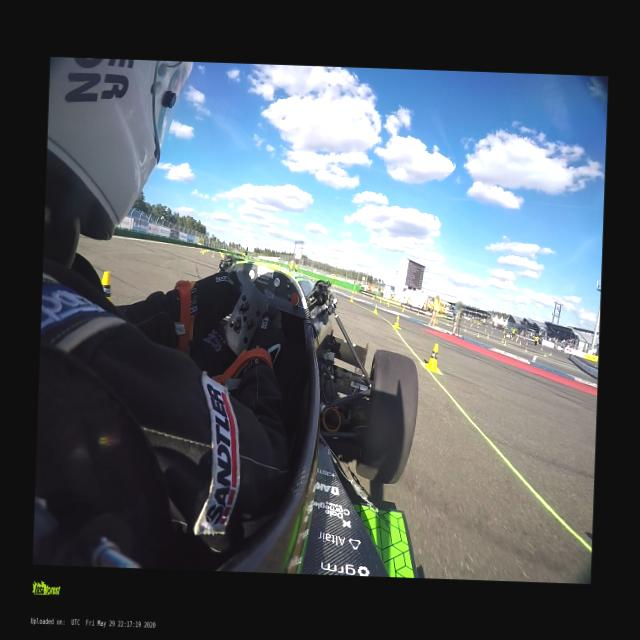yellow_cone: (425, 344, 440, 372), (100, 272, 112, 300), (394, 316, 399, 328), (373, 304, 377, 314), (349, 294, 353, 302), (476, 332, 479, 338), (524, 346, 527, 352), (401, 307, 404, 312), (211, 253, 214, 257), (446, 322, 449, 326), (504, 340, 506, 345), (372, 296, 374, 300), (387, 302, 389, 306)
